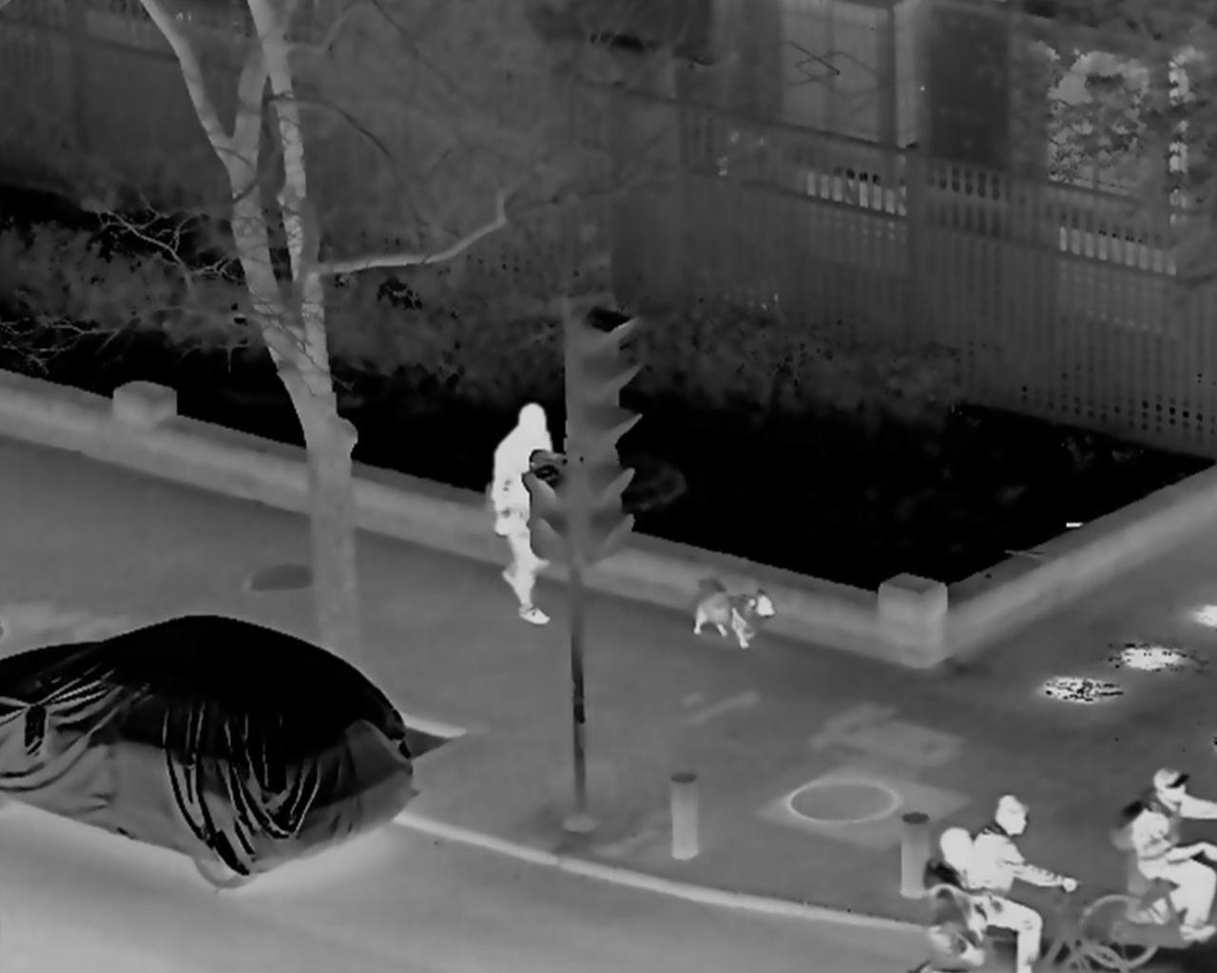person: (950, 797, 1074, 973), (1115, 755, 1217, 940), (489, 404, 566, 636), (918, 826, 981, 973)
